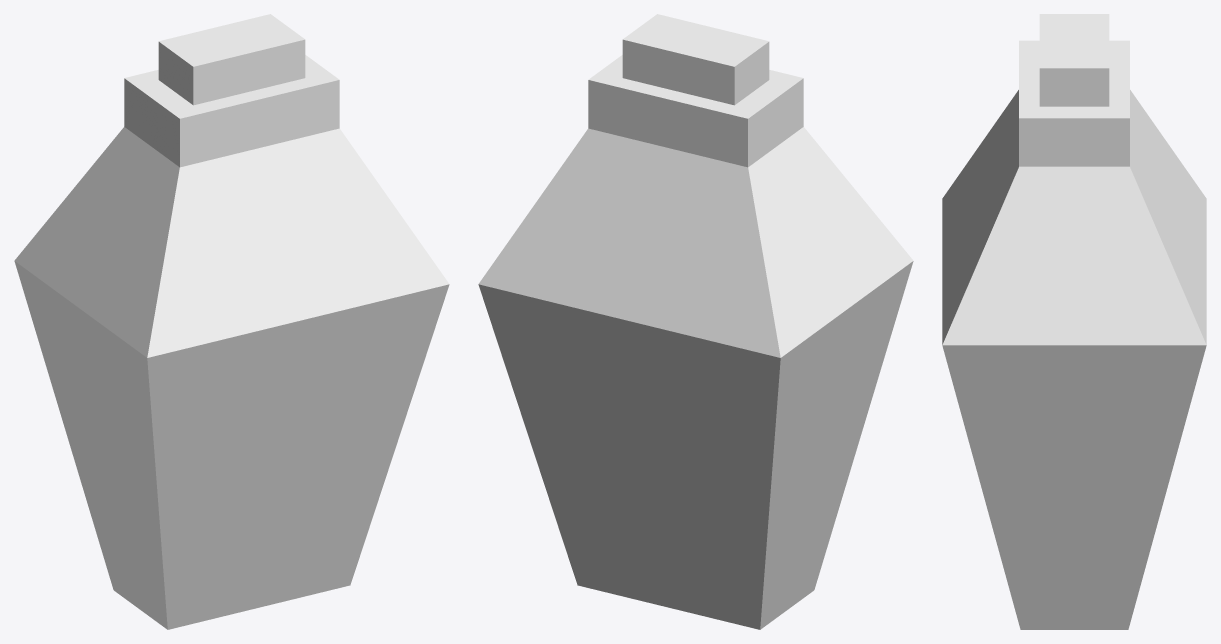
File: SM_Potion_Sweet_Brew.glb
3 renders of one model, left to right at view 1: azimuth 30°, elevation 25°; view 2: azimuth 150°, elevation 25°; view 3: azimuth 270°, elevation 25°, orthographic.
Visible parts, largest first — view 1: SM_Potion_Sweet_Brew.001; view 2: SM_Potion_Sweet_Brew.001; view 3: SM_Potion_Sweet_Brew.001.
Part boxes in pixels (left/top/right/bottom): SM_Potion_Sweet_Brew.001: left=14, top=14, right=449, bottom=629; SM_Potion_Sweet_Brew.001: left=478, top=14, right=913, bottom=629; SM_Potion_Sweet_Brew.001: left=942, top=14, right=1206, bottom=629.
Size of the model in its own units: 49.28 by 85.27 by 37.52.
1 material, 1 textured.
